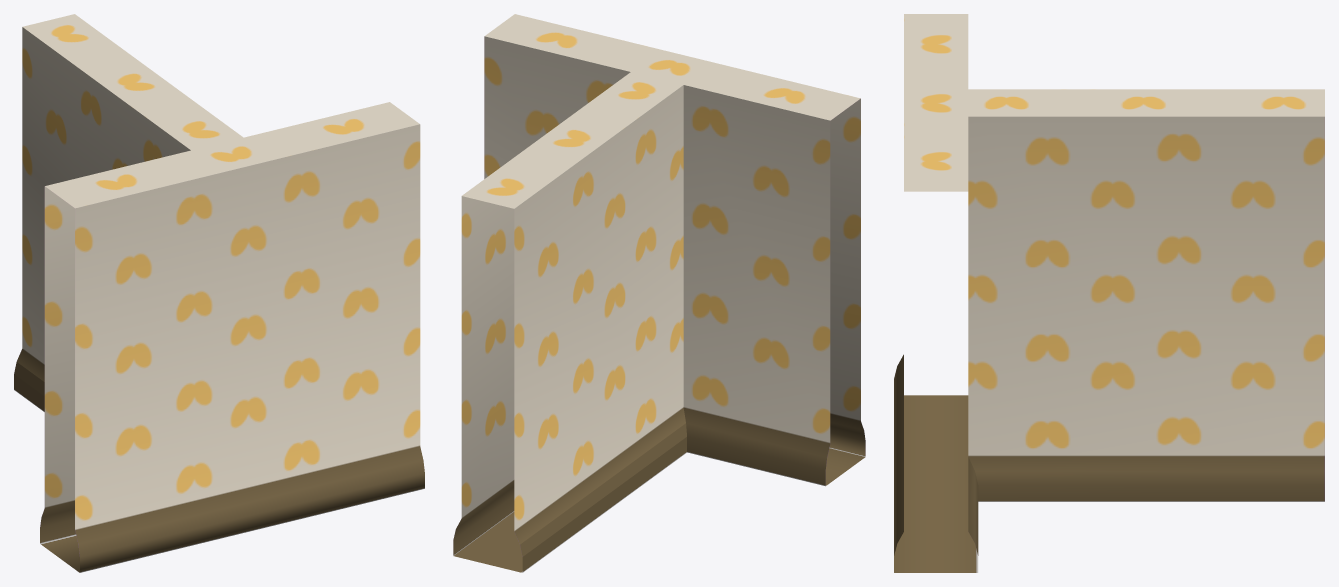
The model's file is Wall_T_Corner.FBX.
3 renders of one model, left to right at view 1: azimuth 30°, elevation 25°; view 2: azimuth 150°, elevation 25°; view 3: azimuth 270°, elevation 25°, orthographic. The views are drawn at different scales.
Visible parts, largest first — view 1: Meur_T; view 2: Meur_T; view 3: Meur_T.
Part boxes in pixels (x1,y1,x2,y2): Meur_T: (14, 14, 424, 572); Meur_T: (453, 14, 865, 572); Meur_T: (894, 14, 1324, 572).
Bounding box in the file's own units: 250 × 250 × 256.
Materials: 1 (1 with a texture image).
